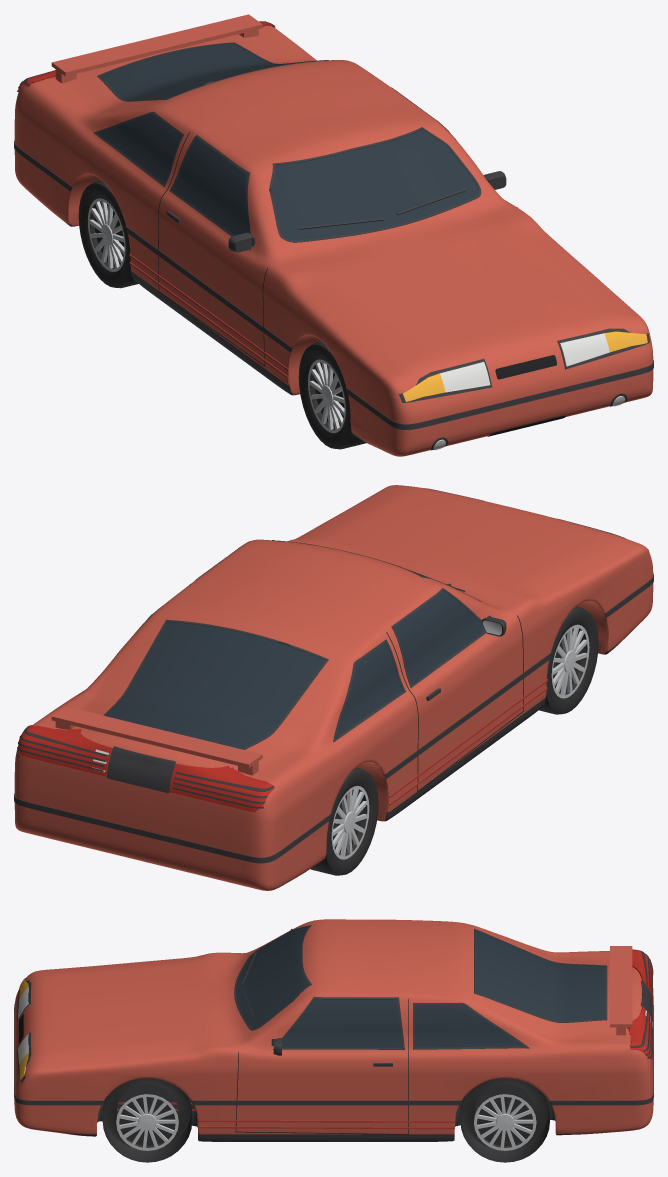
File: foxgt.glb
3 views of the same model, one above another, from view 1: azimuth 30°, elevation 25°; view 2: azimuth 150°, elevation 25°; view 3: azimuth 270°, elevation 25° (orthographic). The views are drawn at different scales.
Visible parts, largest first — view 1: paint, glass, trim, wheel_fr, wheel_rr, headlights, mirrors, front_blinker_right, front_blinker_left; view 2: paint, glass, trim, taillights, wheel_rr, wheel_fr; view 3: paint, glass, trim, wheel_fl, wheel_rl, taillights, headlights.
Boxes of the visible parts, left/top/right/bottom form: paint: left=14, top=25, right=653, bottom=456; glass: left=97, top=43, right=478, bottom=240; trim: left=14, top=14, right=653, bottom=450; wheel_fr: left=298, top=341, right=365, bottom=449; wheel_rr: left=78, top=180, right=138, bottom=288; headlights: left=433, top=333, right=625, bottom=449; mirrors: left=228, top=171, right=506, bottom=252; front_blinker_right: left=402, top=373, right=445, bottom=401; front_blinker_left: left=604, top=331, right=647, bottom=352; paint: left=14, top=485, right=653, bottom=890; glass: left=105, top=570, right=485, bottom=749; trim: left=14, top=488, right=653, bottom=863; taillights: left=18, top=725, right=274, bottom=812; wheel_rr: left=310, top=767, right=378, bottom=875; wheel_fr: left=539, top=606, right=598, bottom=714; paint: left=14, top=919, right=653, bottom=1141; glass: left=236, top=926, right=605, bottom=1048; trim: left=14, top=920, right=653, bottom=1134; wheel_fl: left=102, top=1078, right=192, bottom=1162; wheel_rl: left=460, top=1078, right=549, bottom=1162; taillights: left=627, top=949, right=652, bottom=1059; headlights: left=14, top=987, right=28, bottom=1106.
Bounding box in the file's own units: 1.84 × 1.31 × 4.57.
